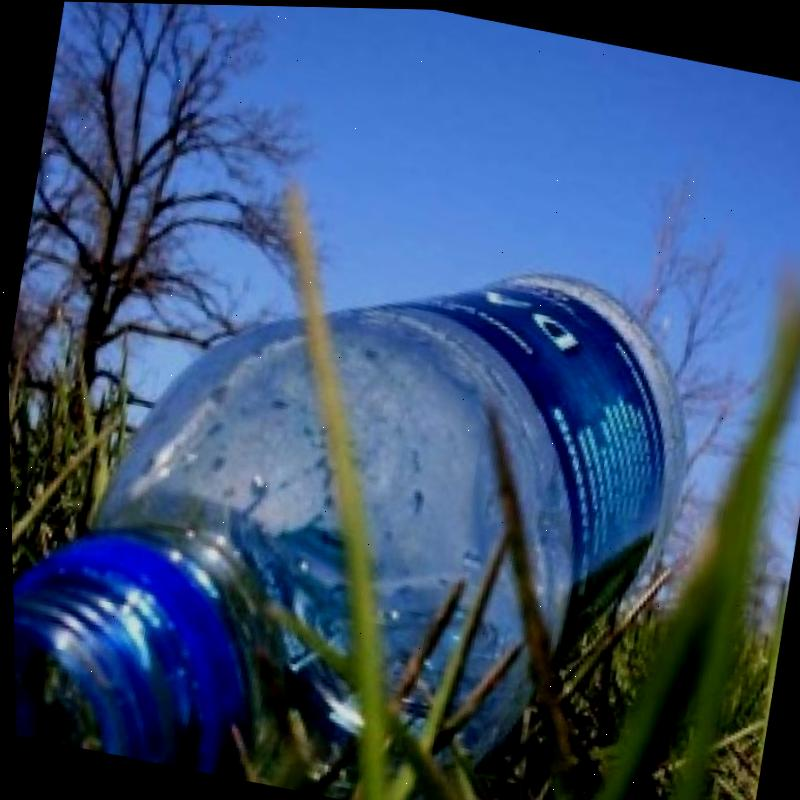botella: (3, 173, 710, 800)
